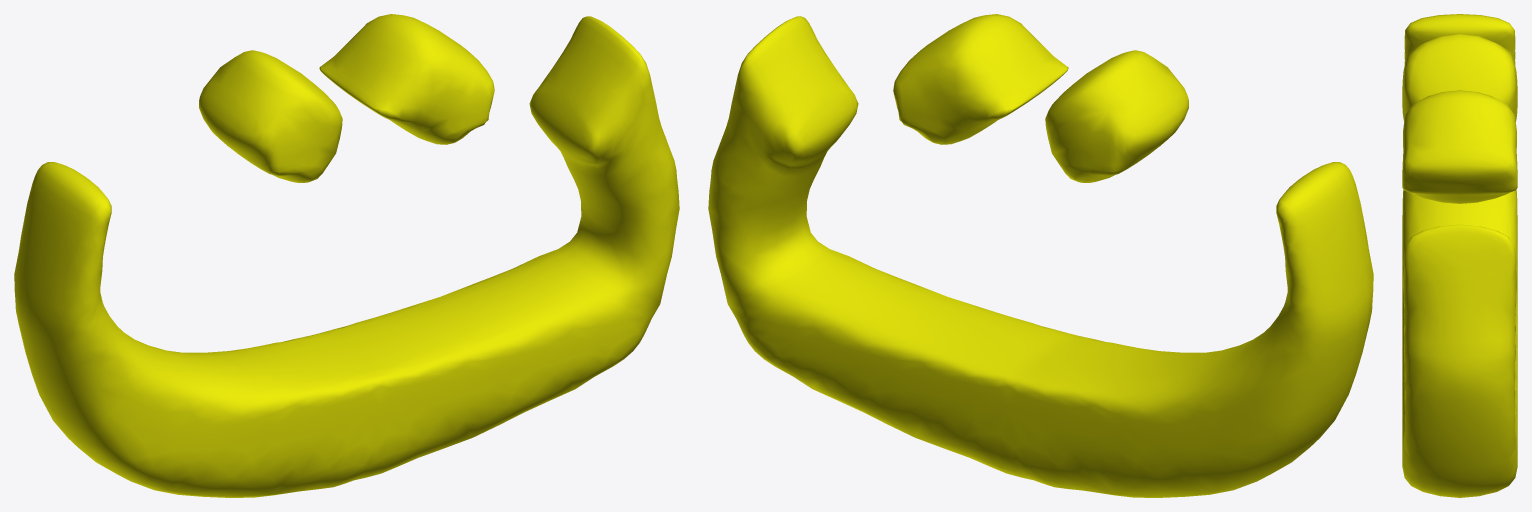
3 renders of one model, left to right at view 1: azimuth 30°, elevation 25°; view 2: azimuth 150°, elevation 25°; view 3: azimuth 270°, elevation 25°, orthographic. The views are drawn at different scales.
Parts seen in each view (by area): view 1: char_1; view 2: char_1; view 3: char_1.
Part boxes in pixels (x1,y1,x2,y2): char_1: (14,14,679,497); char_1: (708,14,1373,497); char_1: (1402,14,1517,497).
Size of the model in its own units: 5.49 by 3.61 by 1.
